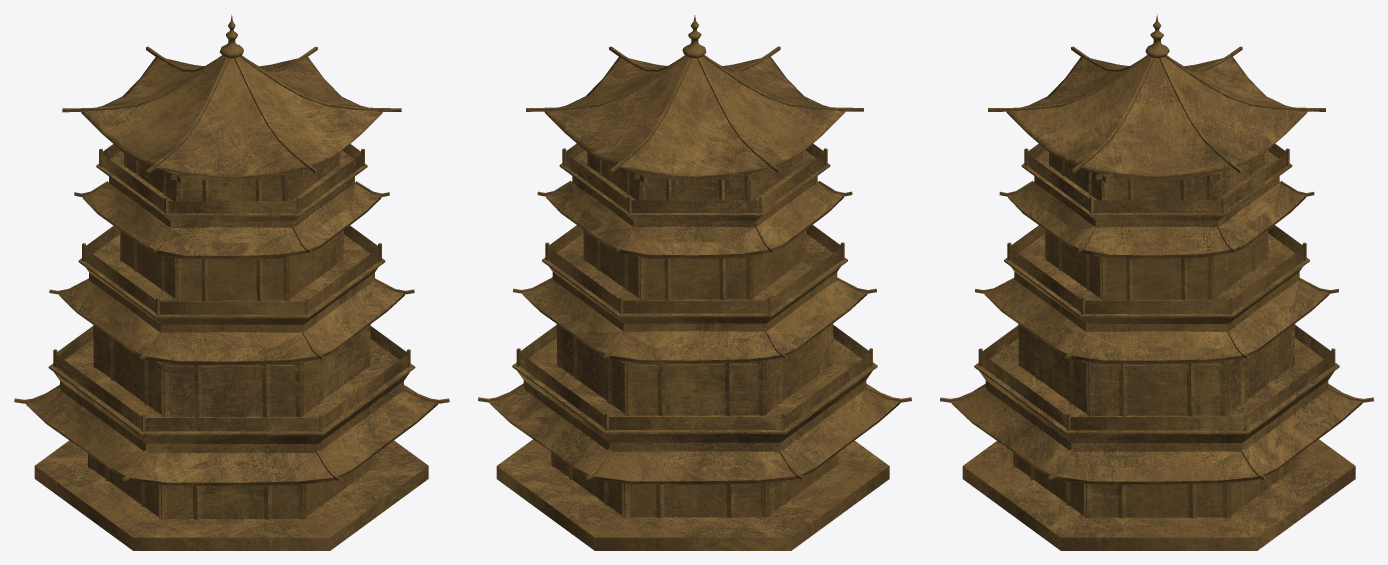
The model's file is Figure 3.FBX.
The picture shows the model from 3 angles, left to right: view 1: azimuth 30°, elevation 25°; view 2: azimuth 150°, elevation 25°; view 3: azimuth 270°, elevation 25°; orthographic projection.
Parts seen in each view (by area): view 1: figure 3; view 2: figure 3; view 3: figure 3.
Part boxes in pixels (bbox=[...]): figure 3: bbox=[14, 14, 449, 550]; figure 3: bbox=[478, 15, 911, 550]; figure 3: bbox=[940, 14, 1373, 550].
Size of the model in its own units: 24.62 by 33.46 by 28.32.
